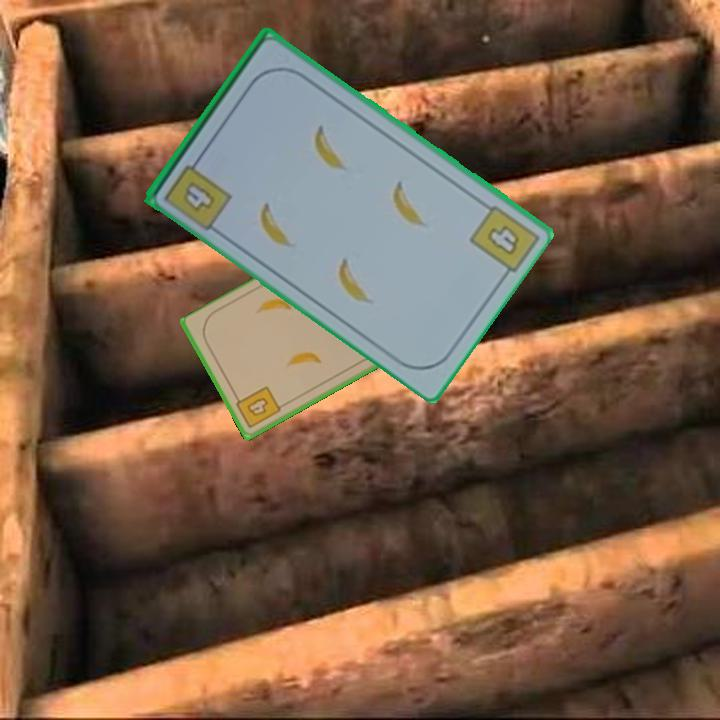4b: (160, 151, 235, 231), (231, 382, 284, 431), (483, 221, 524, 259)
